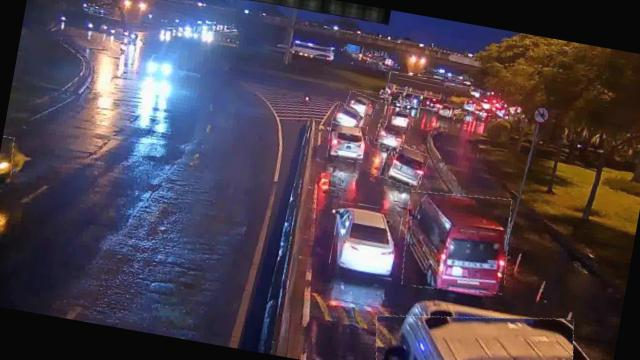Bike: (0, 135, 17, 188)
Bus: (369, 293, 580, 360), (397, 185, 518, 300)
Car: (329, 200, 404, 279), (380, 142, 430, 189), (326, 121, 368, 163), (375, 120, 407, 149), (332, 102, 365, 130), (345, 91, 379, 117), (386, 106, 414, 130)
Truck: (384, 72, 462, 113)
